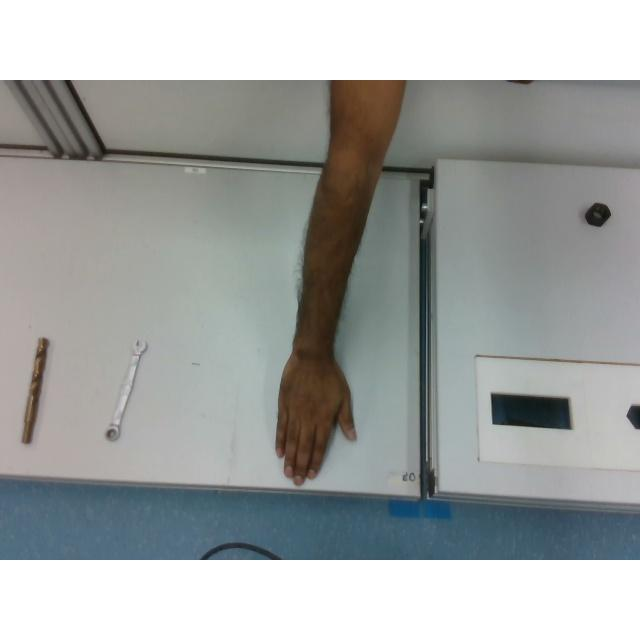Drill: (18, 336, 50, 444)
M20: (584, 202, 612, 226)
Wrench: (107, 338, 147, 438)
